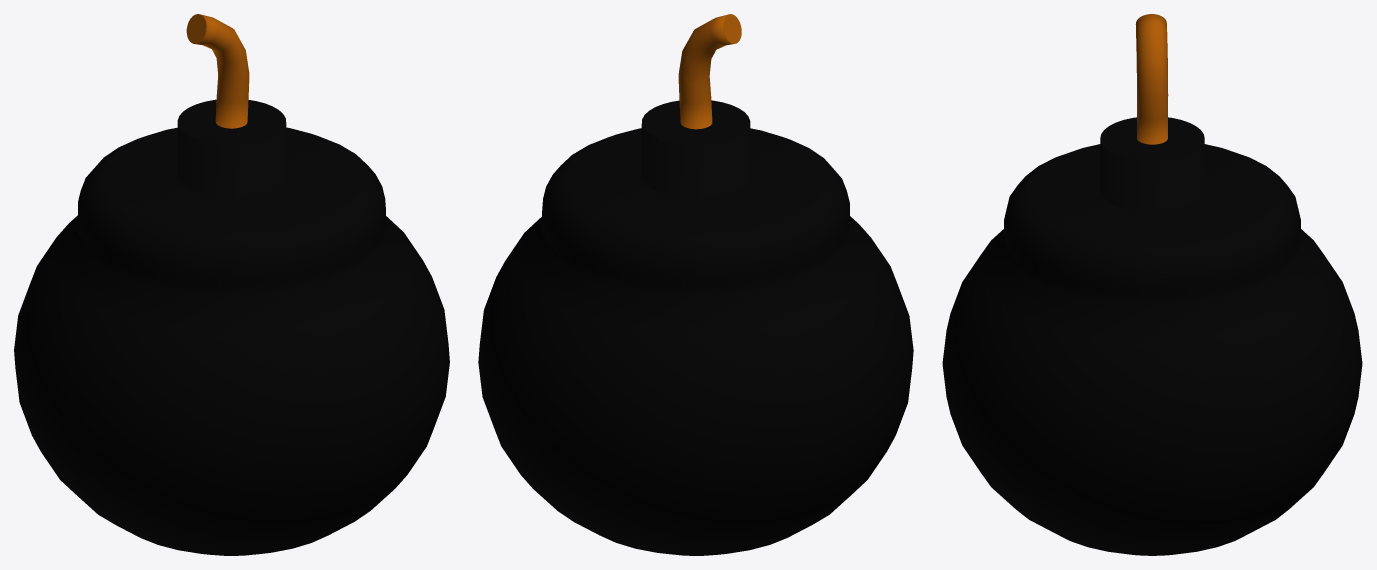
File: Bomb.fbx
3 renders of one model, left to right at view 1: azimuth 30°, elevation 25°; view 2: azimuth 150°, elevation 25°; view 3: azimuth 270°, elevation 25°, orthographic. The views are drawn at different scales.
Visible parts, largest first — view 1: Bomb; view 2: Bomb; view 3: Bomb.
Part boxes in pixels (x1,y1,x2,y2): Bomb: (14,14,449,555); Bomb: (478,14,913,555); Bomb: (942,14,1362,555).
Bounding box in the file's own units: 1 × 1 × 1.33.
